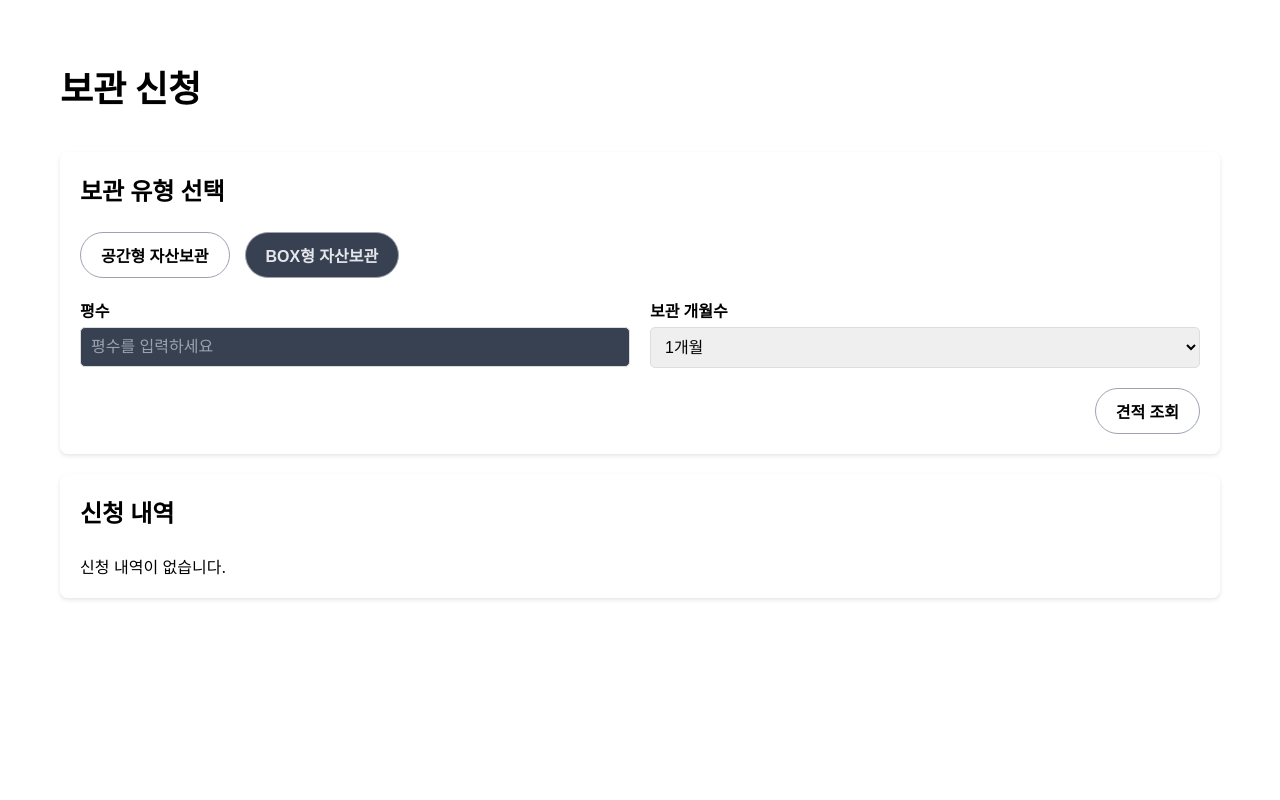
Test: StorageApplication › validates input before estimate (3.3)
This screenshot has width=1280, height=800.
Click the button "견적 조회".
click(1147, 411)  # box [1095,388,1200,434]
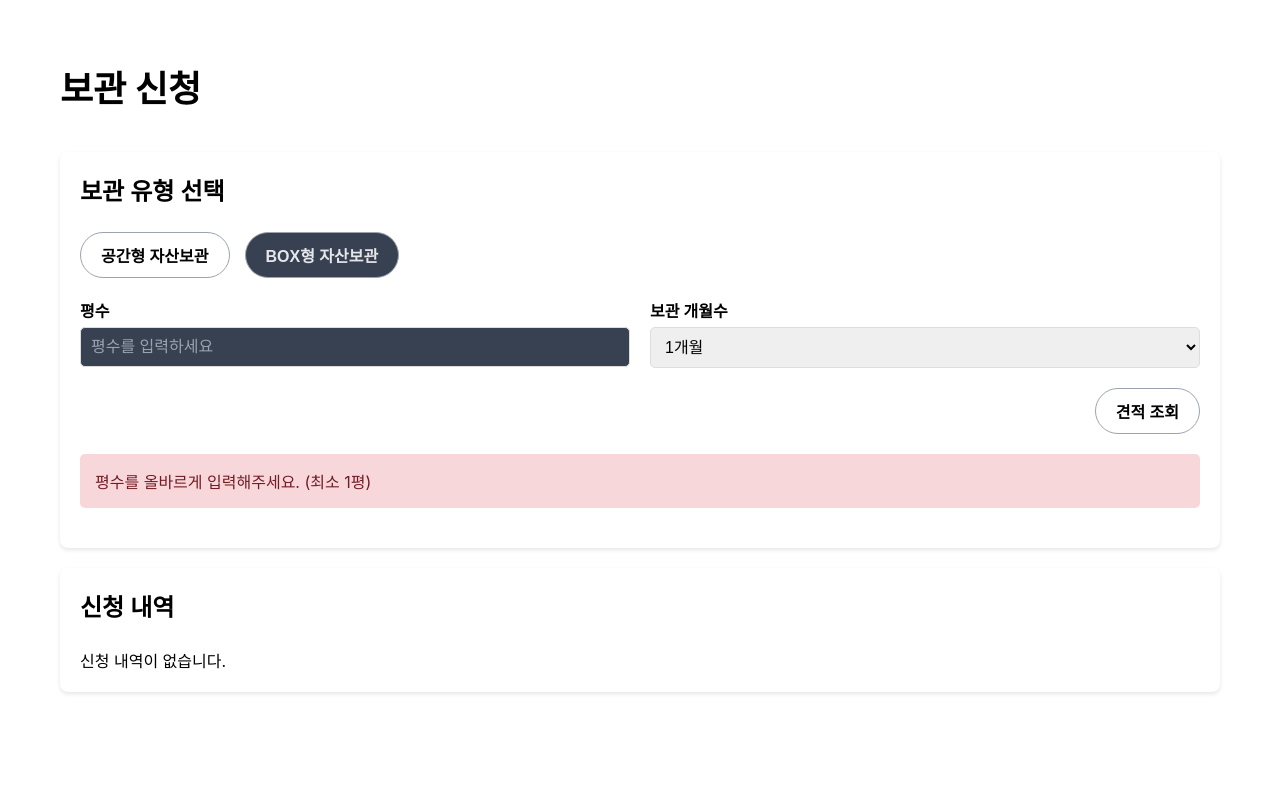
Result: the text "평수를 올바르게 입력해주세요. (최소 1평)" is shown at [80,454,1200,508]
